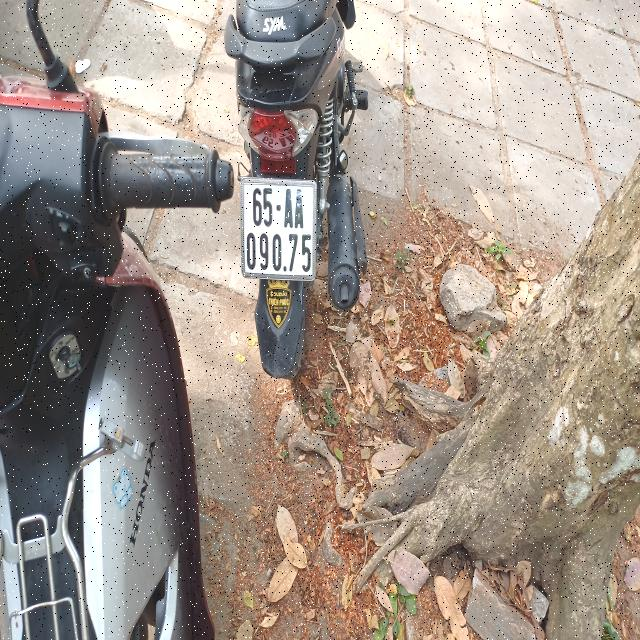0: (272, 233, 282, 272), (247, 232, 257, 270)
5: (262, 186, 274, 228), (302, 231, 312, 272)
6: (252, 184, 262, 229)
7: (289, 232, 297, 272)
9: (258, 231, 270, 271)
A: (294, 188, 305, 228), (284, 188, 294, 228)
